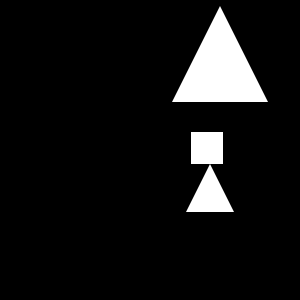circle: (191, 132, 223, 164)
triangle: (172, 6, 268, 102), (186, 164, 234, 212)
